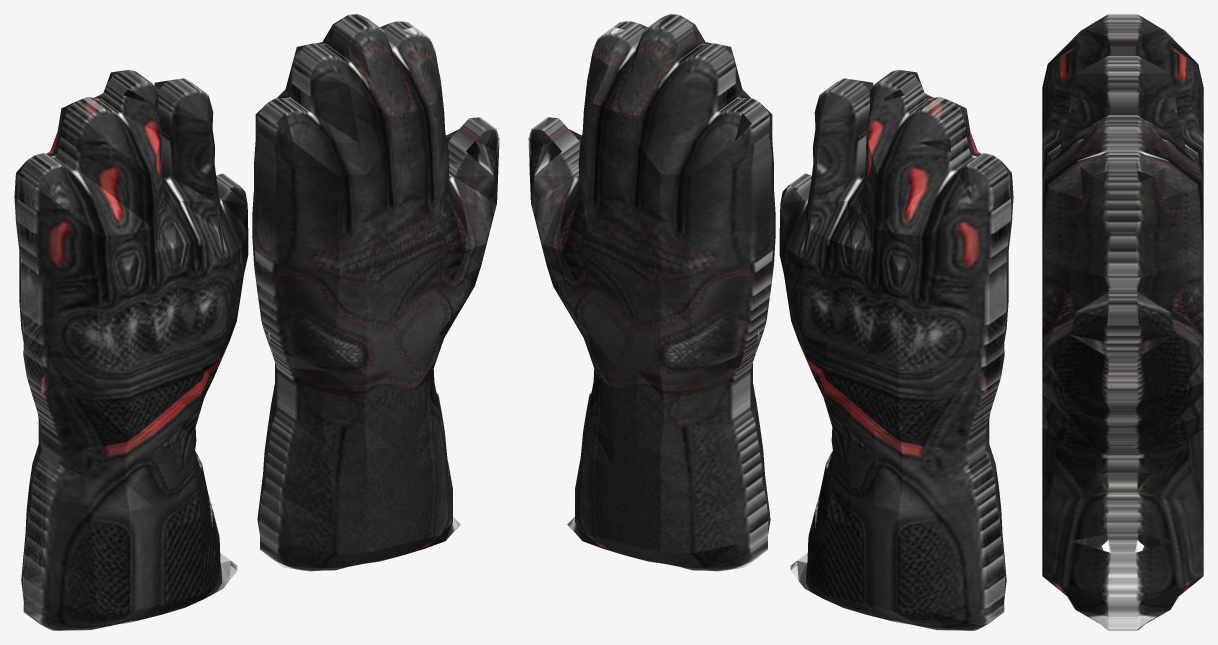
Rendered from sidi-nomad-sport-glove-099.glb.
3 renders of one model, left to right at view 1: azimuth 30°, elevation 25°; view 2: azimuth 150°, elevation 25°; view 3: azimuth 270°, elevation 25°, orthographic. The views are drawn at different scales.
Visible parts, largest first — view 1: world; view 2: world; view 3: world.
Boxes of the visible parts, box(x1,y1,x2,y2) form: world: box(14, 14, 499, 630); world: box(528, 14, 1013, 630); world: box(1042, 14, 1203, 630).
Bounding box in the file's own units: 0.9062 × 1 × 0.3.
1 material, 1 textured.
